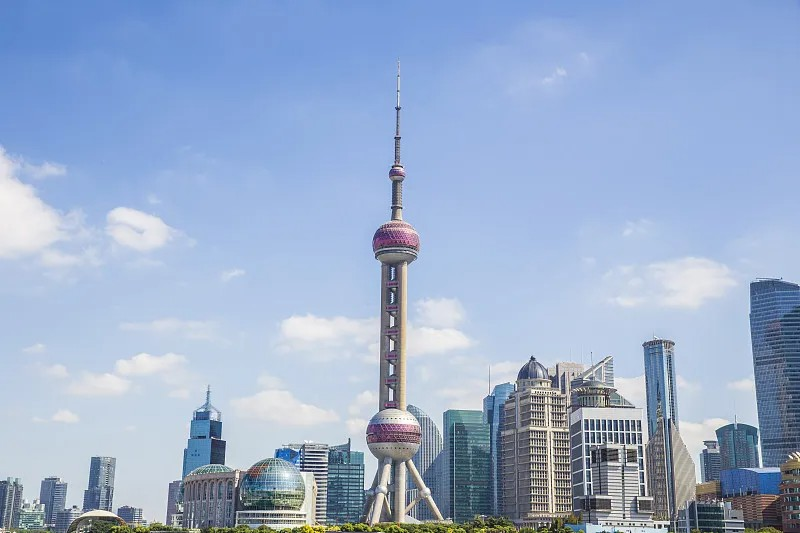Oriental: (365, 58, 444, 519)
